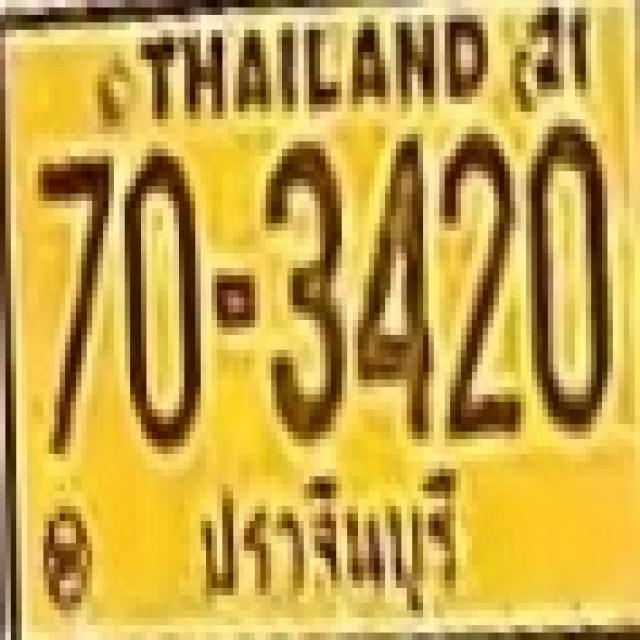0: (526, 119, 608, 424), (120, 145, 196, 443)
2: (437, 130, 512, 398)
3: (260, 138, 342, 435)
4: (352, 126, 428, 432)
7: (32, 152, 108, 442), (32, 149, 108, 394), (32, 152, 108, 361)
PRI: (194, 465, 476, 626)
